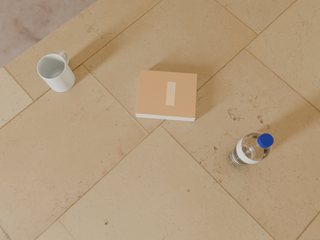book: (136, 70, 197, 121)
bottle: (227, 132, 273, 169)
cup: (37, 51, 75, 92)
